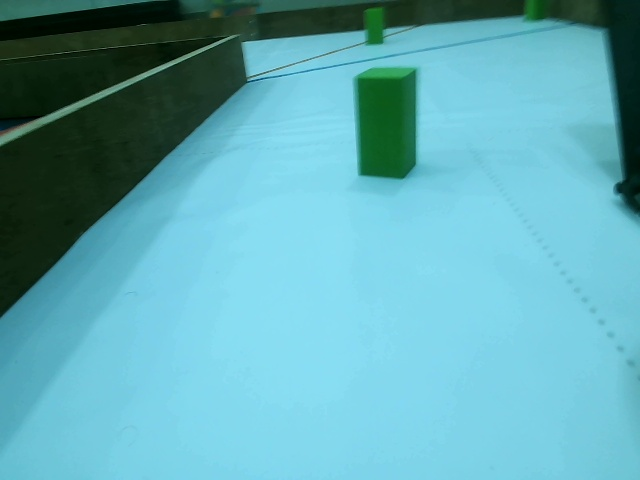green: (361, 71, 412, 176), (364, 7, 383, 45)
